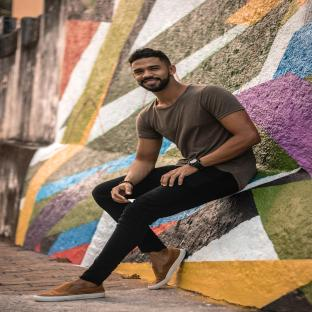Human: (35, 48, 261, 301)
